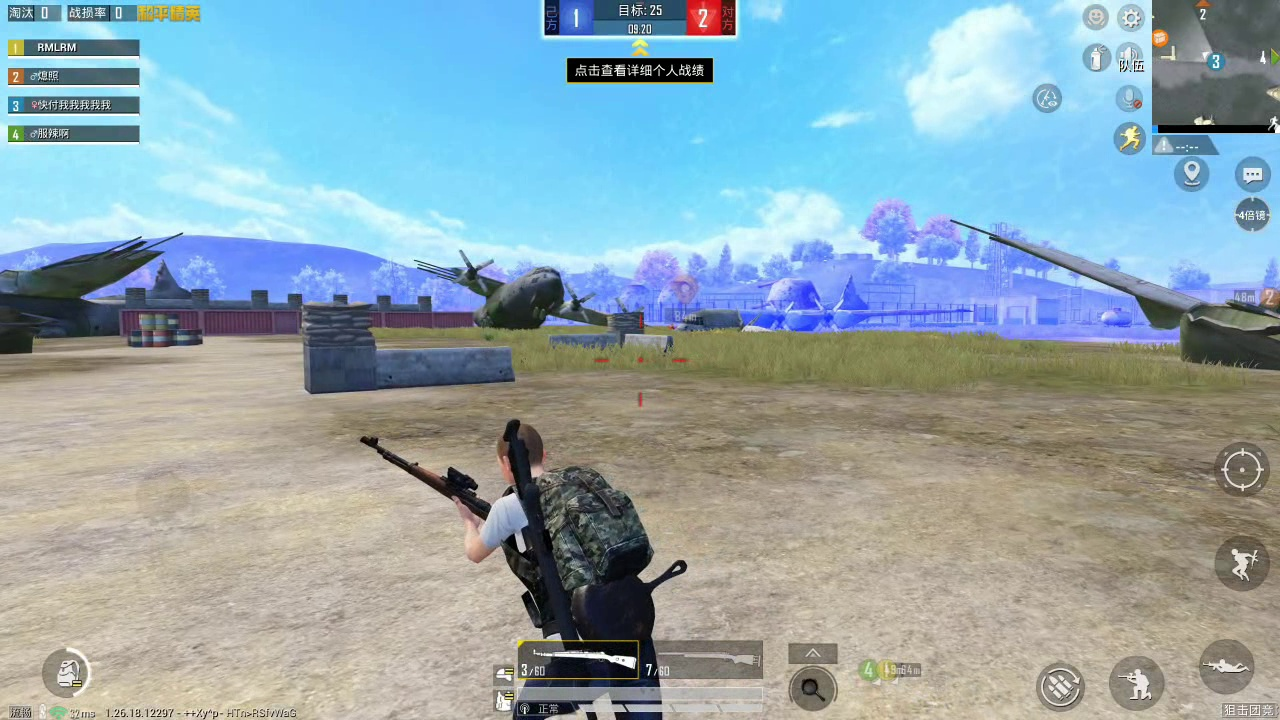enemy: (668, 323, 677, 330)
